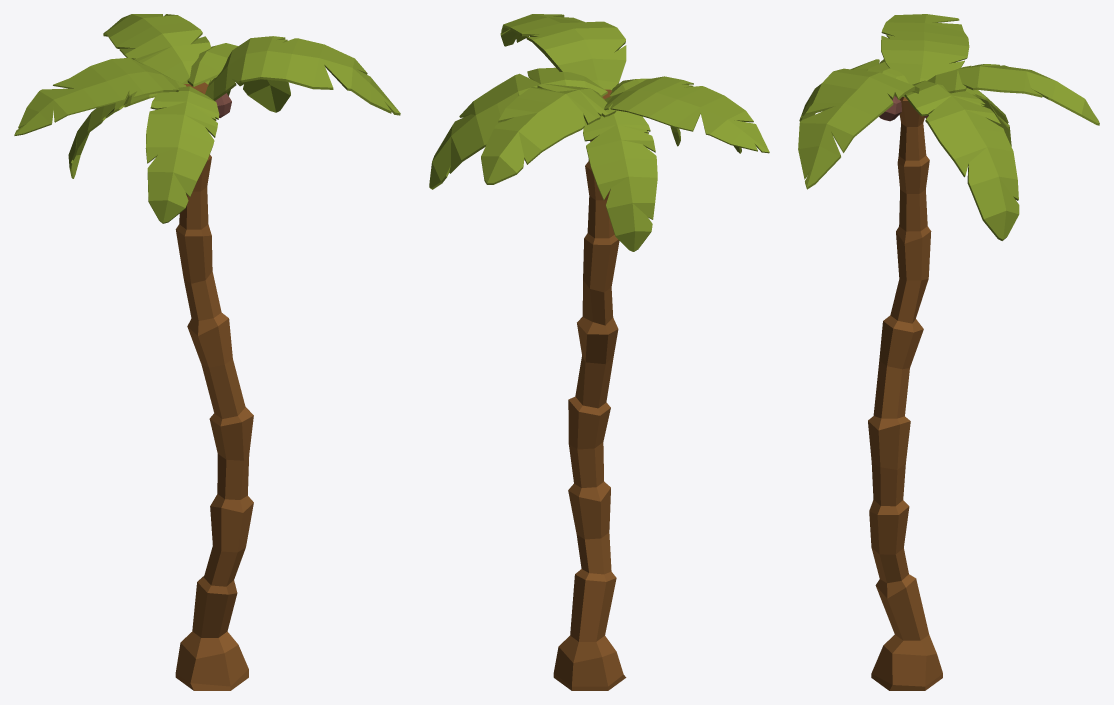
File: PalmTree.002.fbx
The picture shows the model from 3 angles, left to right: view 1: azimuth 30°, elevation 25°; view 2: azimuth 150°, elevation 25°; view 3: azimuth 270°, elevation 25°; orthographic projection. The views are drawn at different scales.
Parts seen in each view (by area): view 1: PalmTree.002; view 2: PalmTree.002; view 3: PalmTree.002.
Boxes of the visible parts, x1,y1,x2,y2 form: PalmTree.002: [14, 14, 400, 690]; PalmTree.002: [429, 14, 769, 690]; PalmTree.002: [798, 14, 1099, 690].
Bounding box in the file's own units: 3.08 × 5.7 × 2.52.
